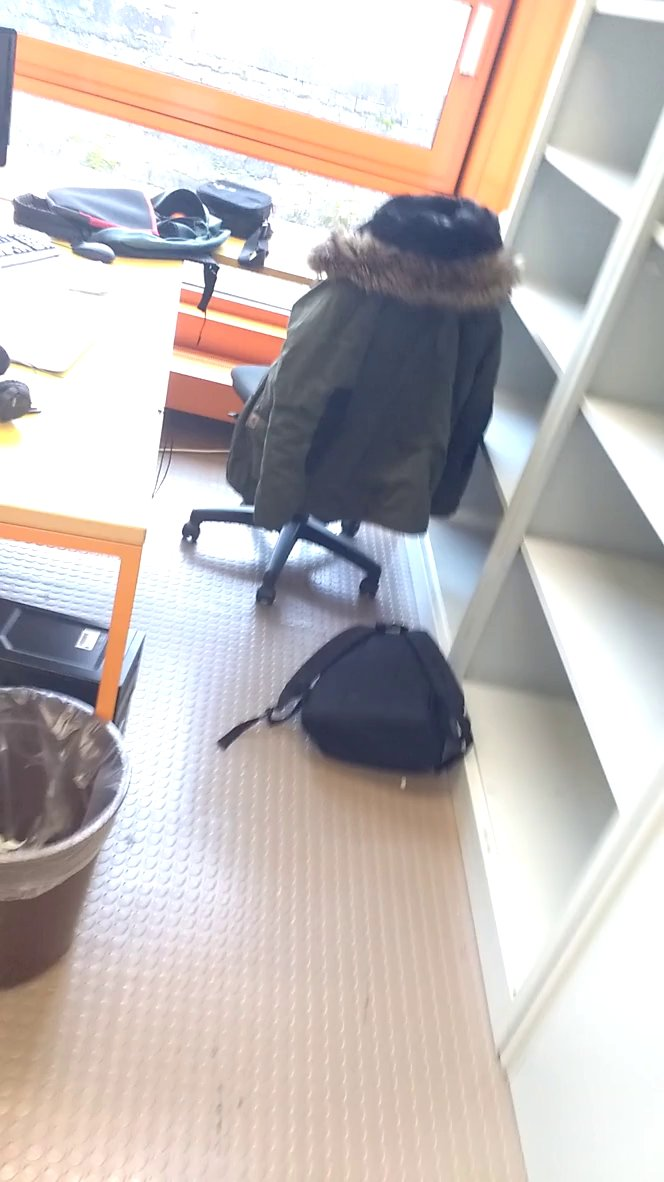bag: (213, 612, 482, 778)
bin: (1, 669, 138, 1006)
